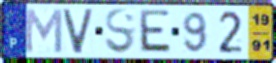2: (218, 9, 244, 55)
9: (181, 10, 212, 54)
E: (137, 8, 173, 56)
M: (22, 7, 64, 55)
S: (104, 7, 137, 56)
V: (61, 7, 96, 55)
